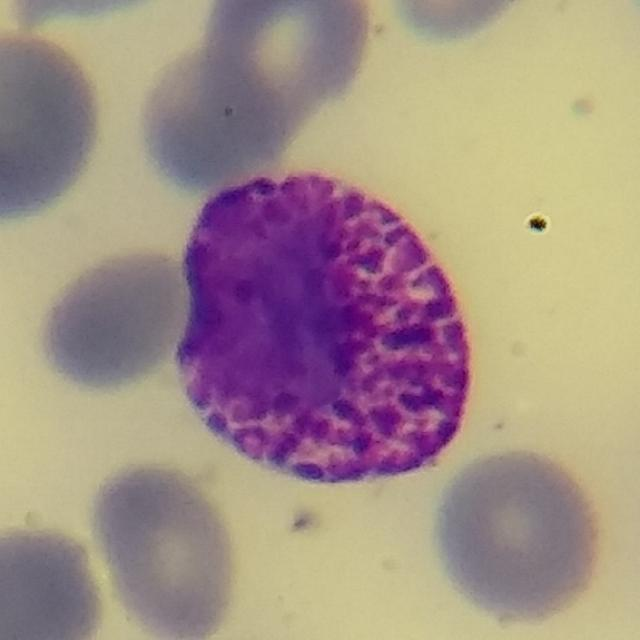baso: (170, 160, 483, 496)
